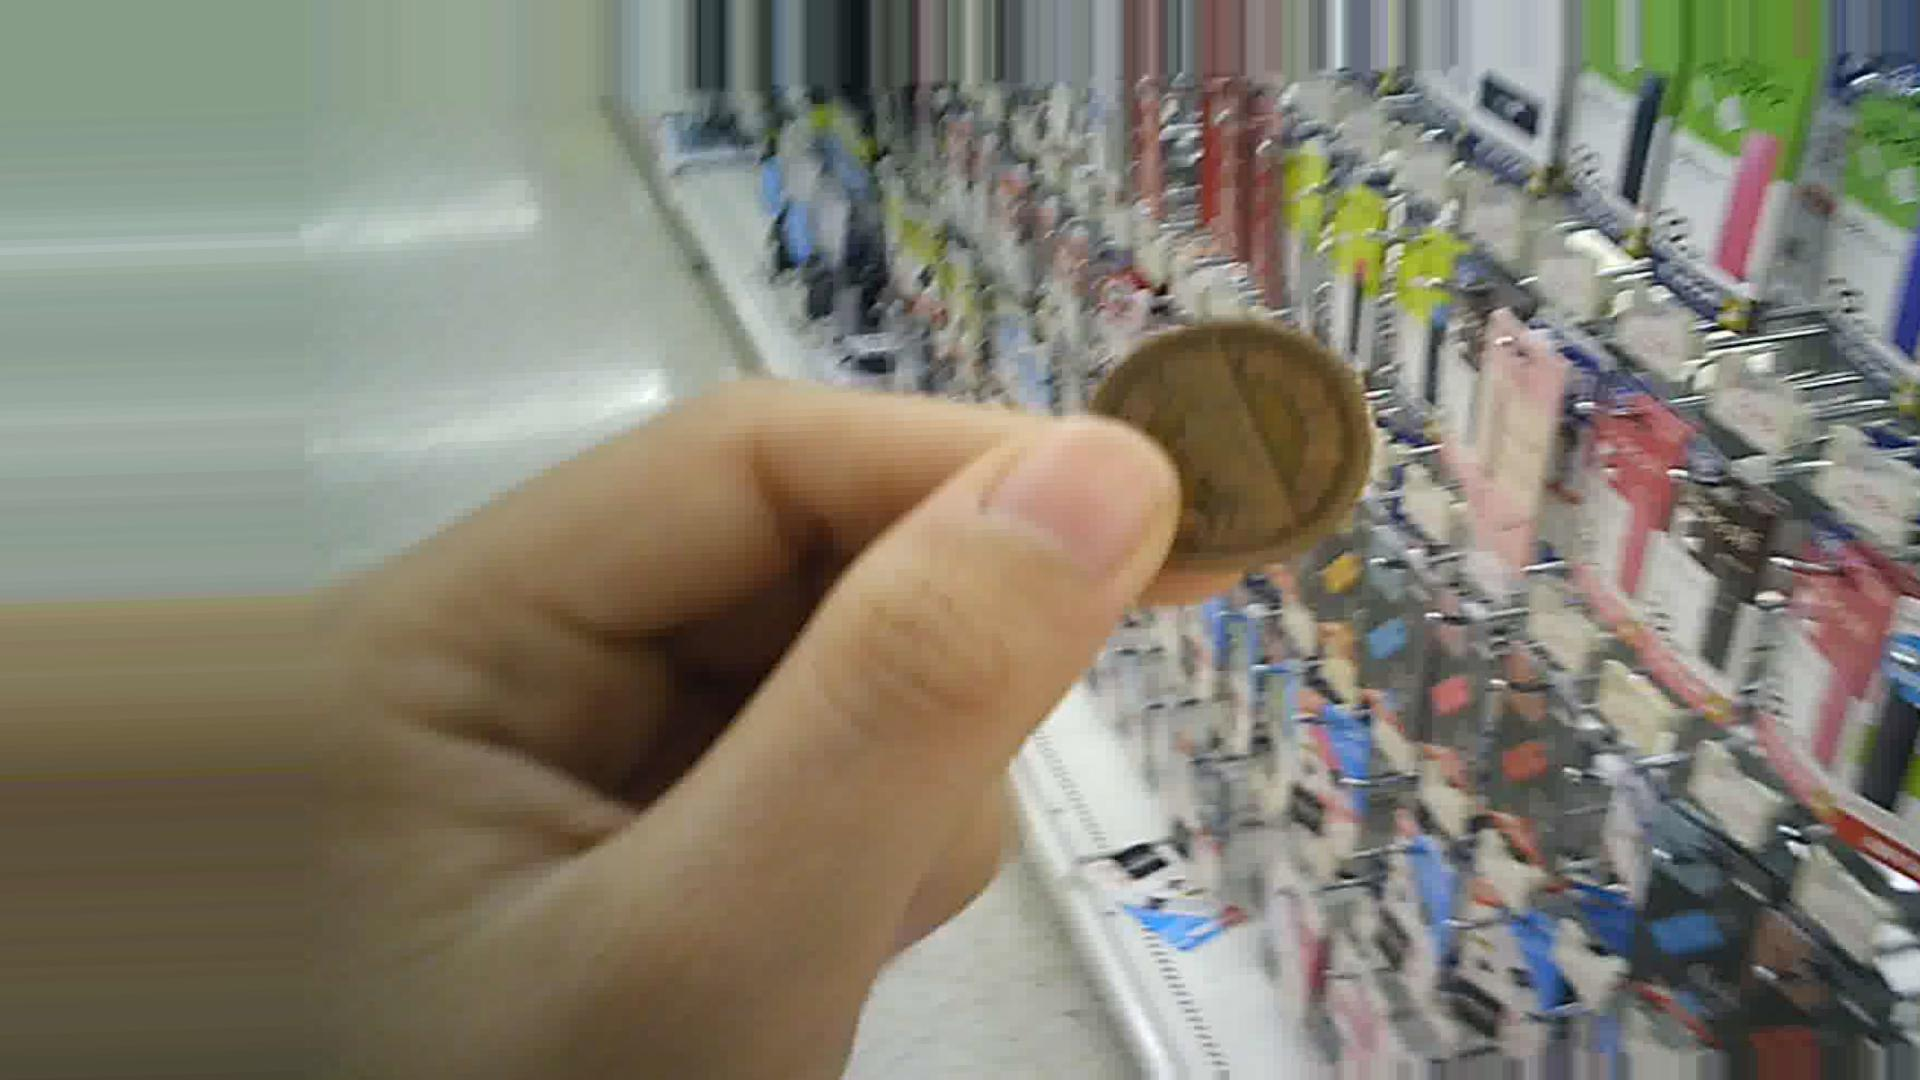10 Yen: (1079, 301, 1383, 572)
